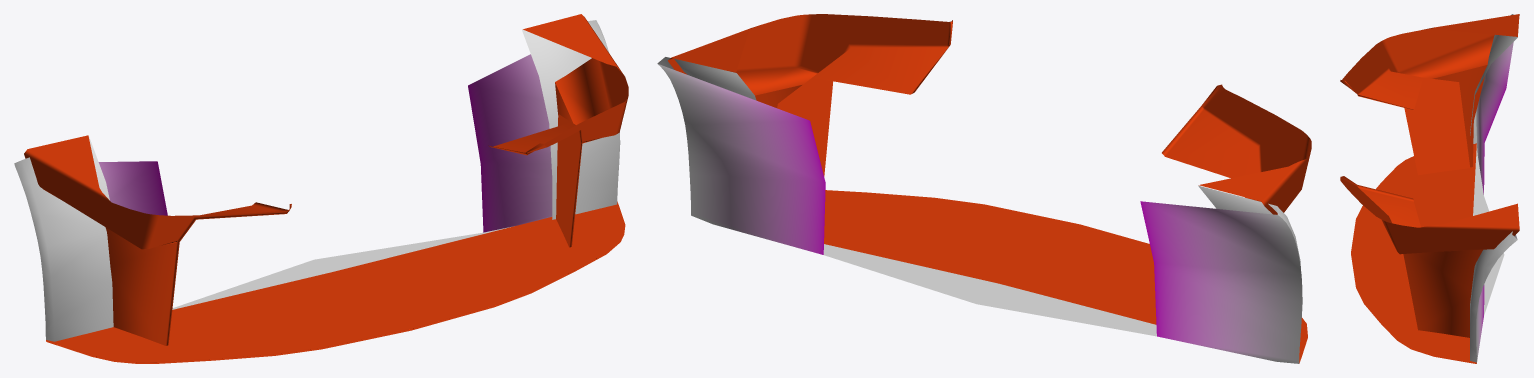
The model's file is Car_Nissan_SkylineGTRVspecR34_1999_BumperChassisF_SetA.fbx.
3 views of the same model, side by side, from view 1: azimuth 30°, elevation 25°; view 2: azimuth 150°, elevation 25°; view 3: azimuth 270°, elevation 25° (orthographic). The views are drawn at different scales.
Visible parts, largest first — view 1: BumperChassisF 6; view 2: BumperChassisF 6; view 3: BumperChassisF 6.
Boxes of the visible parts, x1=… form: BumperChassisF 6: x1=14, y1=14, x2=628, y2=363; BumperChassisF 6: x1=657, y1=14, x2=1311, y2=363; BumperChassisF 6: x1=1340, y1=14, x2=1519, y2=363.
Bounding box in the file's own units: 1.76 × 0.4998 × 0.5958.
